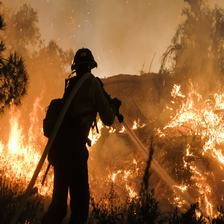fire: (132, 82, 221, 218), (3, 97, 45, 190)
